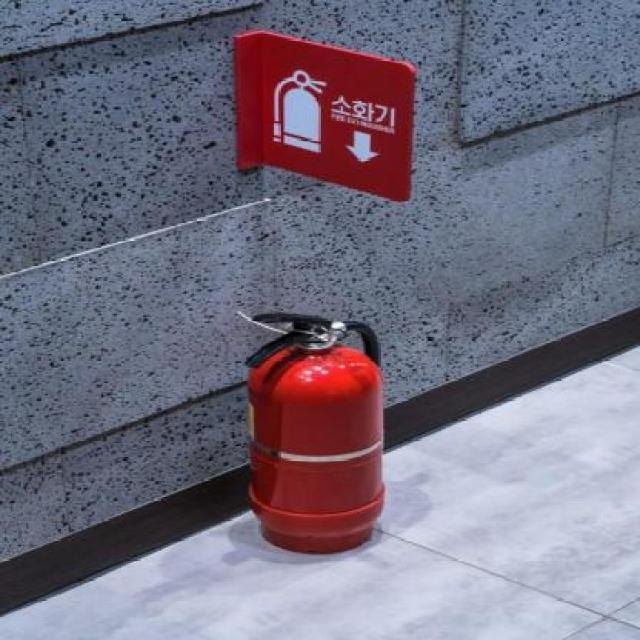fire extinguisher: (244, 311, 384, 554)
